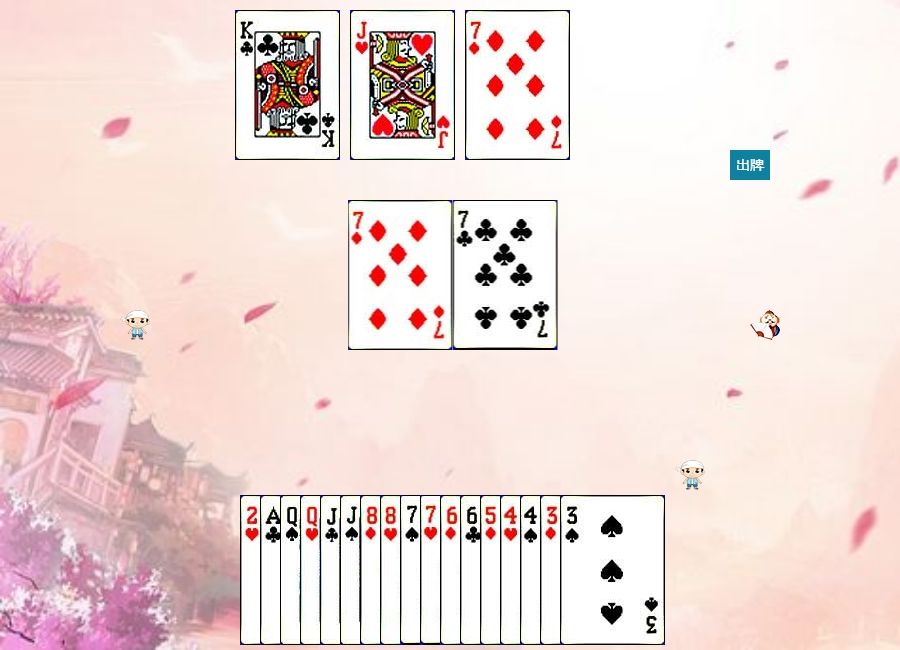11~2: (320, 495, 425, 645)
11~3: (350, 10, 455, 160)
11~4: (340, 495, 445, 645)
12~3: (300, 495, 405, 645)
12~4: (280, 495, 385, 645)
13~2: (235, 10, 340, 160)
14~2: (260, 495, 365, 645)
15~3: (240, 495, 345, 645)
3~1: (540, 495, 645, 645)
3~4: (560, 495, 665, 645)
4~3: (500, 495, 605, 645)
4~4: (520, 495, 625, 645)
5~1: (480, 495, 585, 645)
6~1: (440, 495, 545, 645)
6~2: (460, 495, 565, 645)
7~1: (465, 10, 570, 160), (348, 200, 453, 350)
7~2: (453, 200, 558, 350)
7~3: (420, 495, 525, 645)
7~4: (400, 495, 505, 645)
8~1: (360, 495, 465, 645)
8~3: (380, 495, 485, 645)
